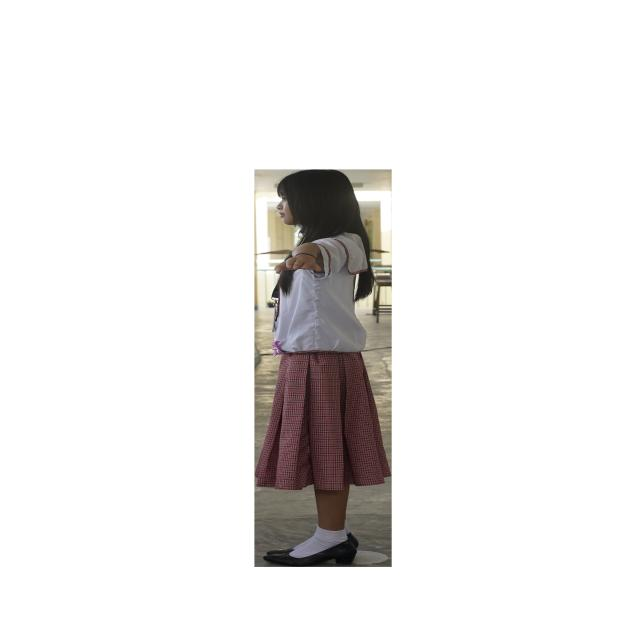pologirl: (275, 232, 366, 353)
shoes: (264, 540, 356, 567)
skirt: (255, 352, 391, 490)
